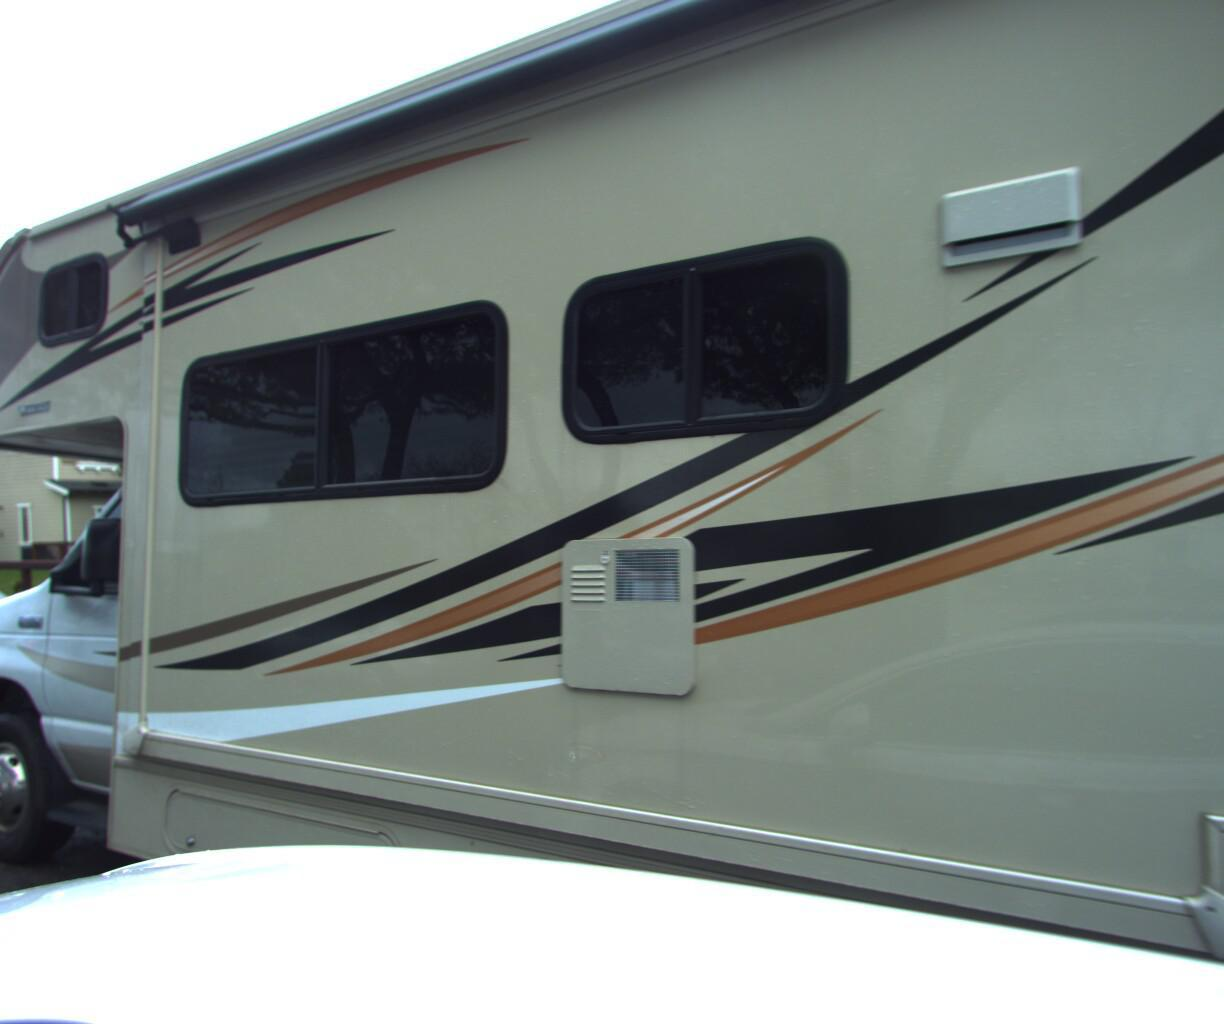car: (0, 547, 91, 798)
